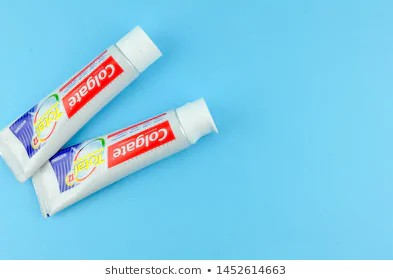colgate-total-150gm: (1, 23, 172, 177), (26, 91, 219, 223)
